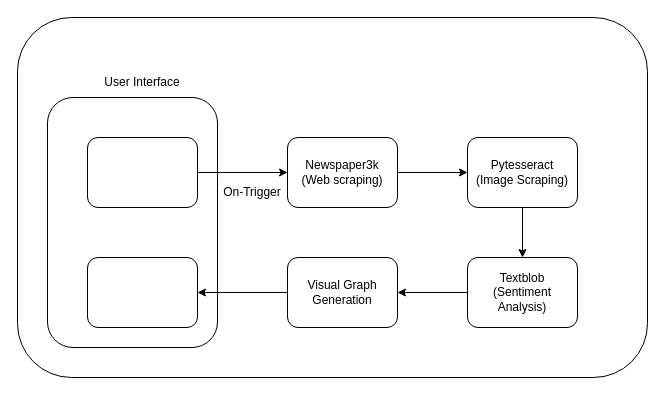
The diagram is 665 pixels wide and 395 high, and some of its shapes have lost their labels. The centre of each missing label's shape, as x and y in pixels:
"Posts (Sample Data)" belongs at point (142, 172).
"Presentation" belongs at point (142, 292).
